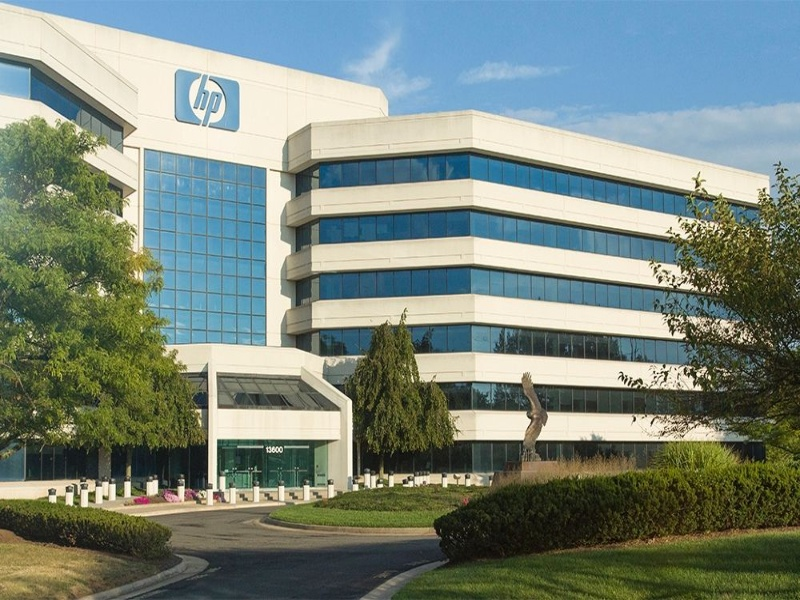hp: (185, 69, 227, 130)
